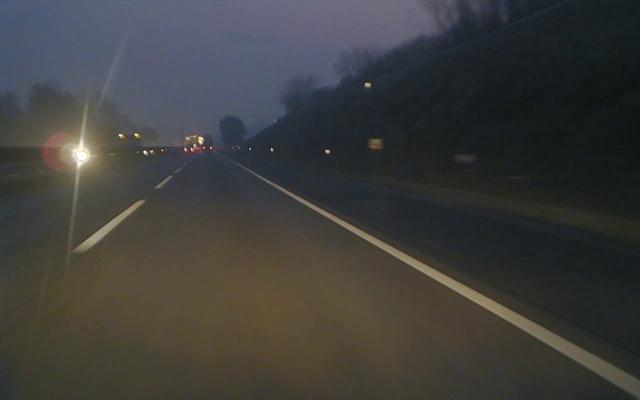lane: (241, 165, 640, 398), (65, 159, 191, 256)
